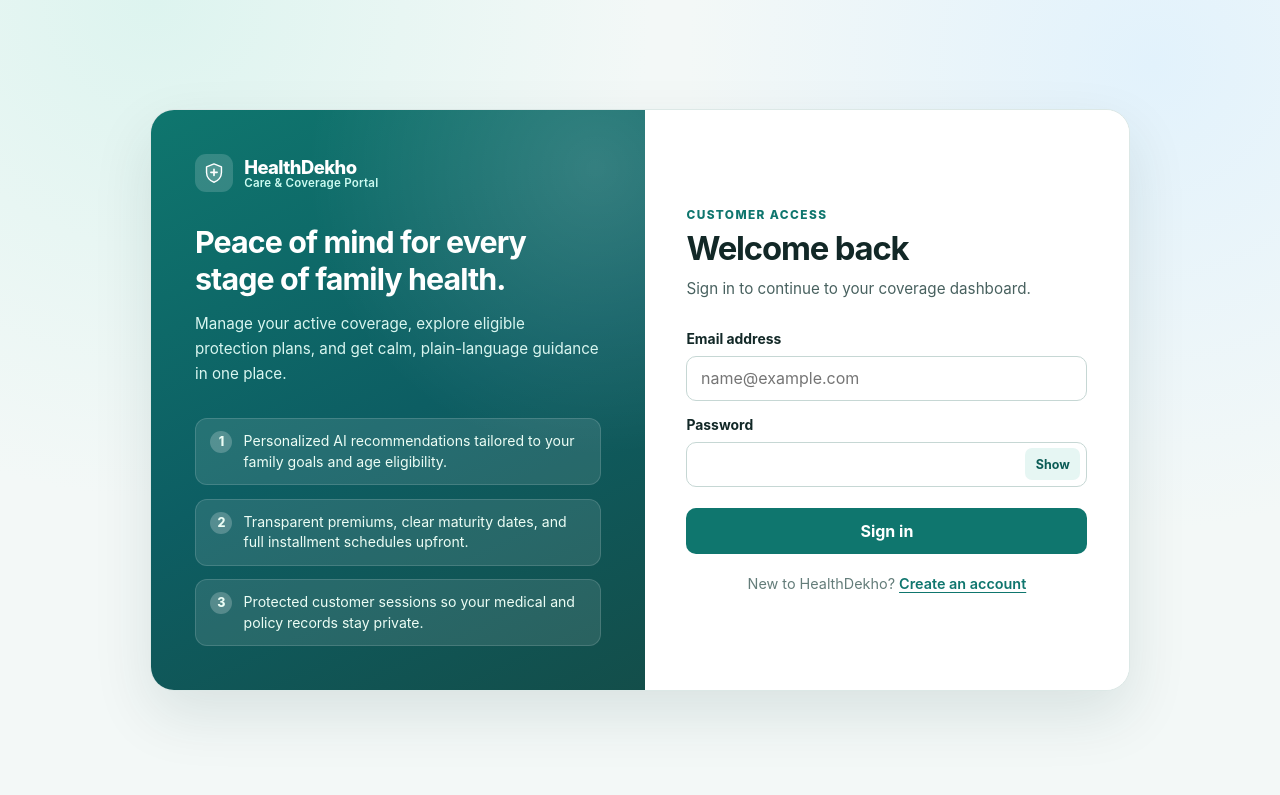
Test case: FR-1, FR-2 & FR-3 authentication, dashboard, recommendations, and policy registration flow › logs in using token-only response, loads 3 dashboard sections, and clears session on logout
Type "asha@example.test" into the field labelled "Email address".
click(887, 378); type("asha@example.test")  # box [686,356,1087,401]
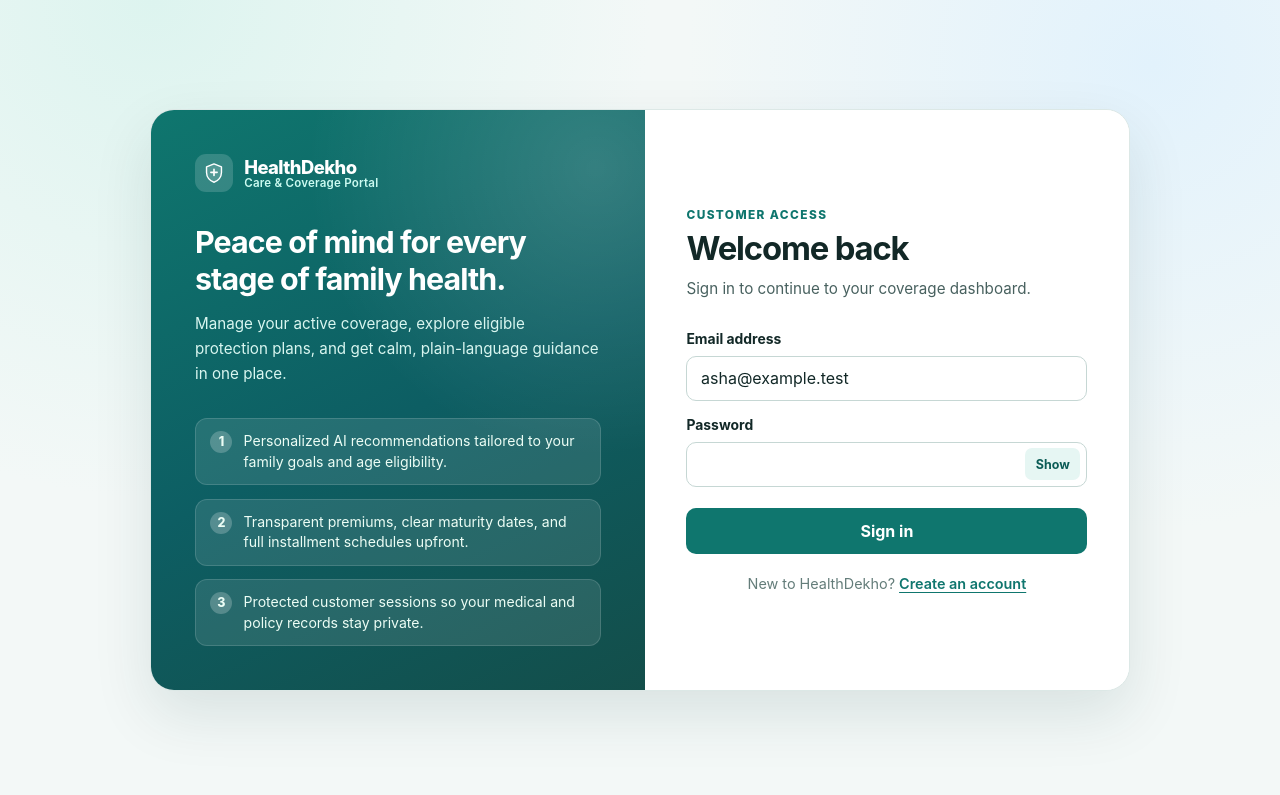
Type "Password@123" into the password field labelled "Password".
click(887, 464); type("Password@123")  # box [686,442,1087,487]
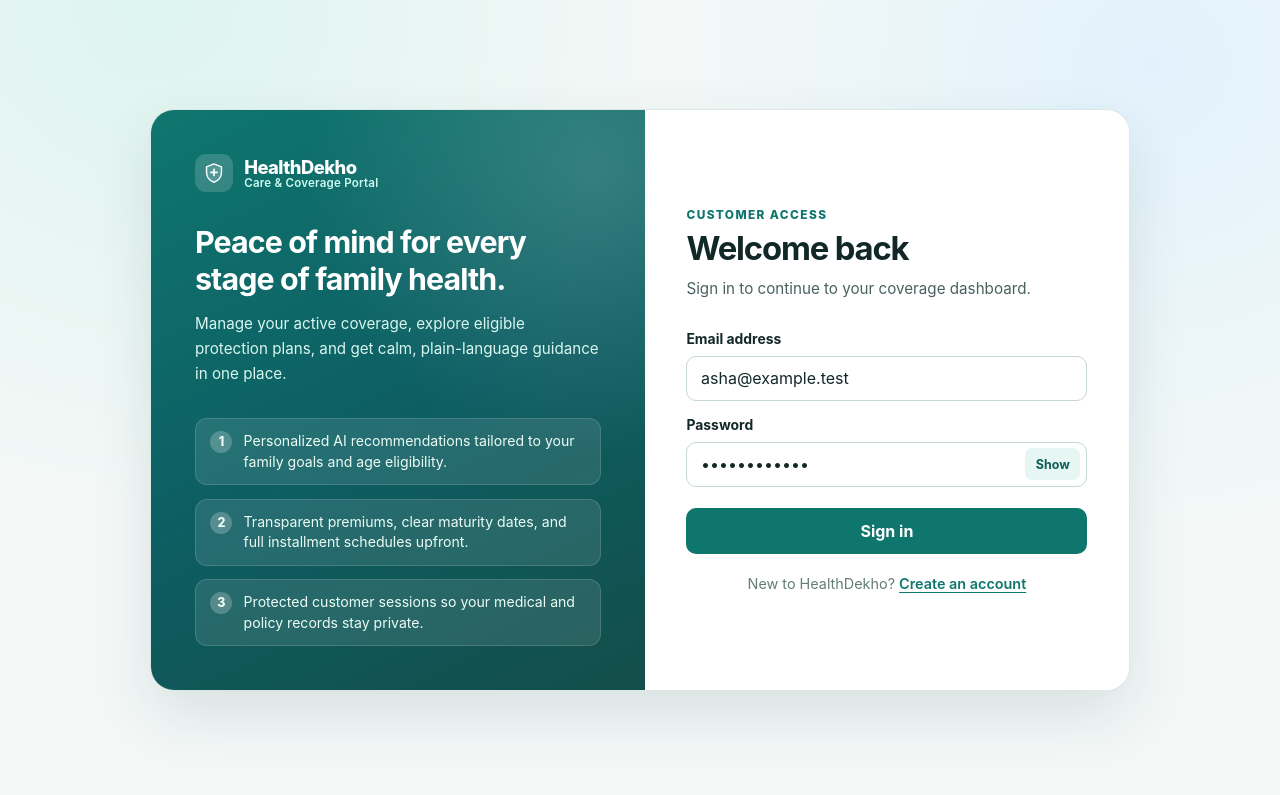
Click the button "Sign in".
click(887, 531)  # box [686,508,1087,554]
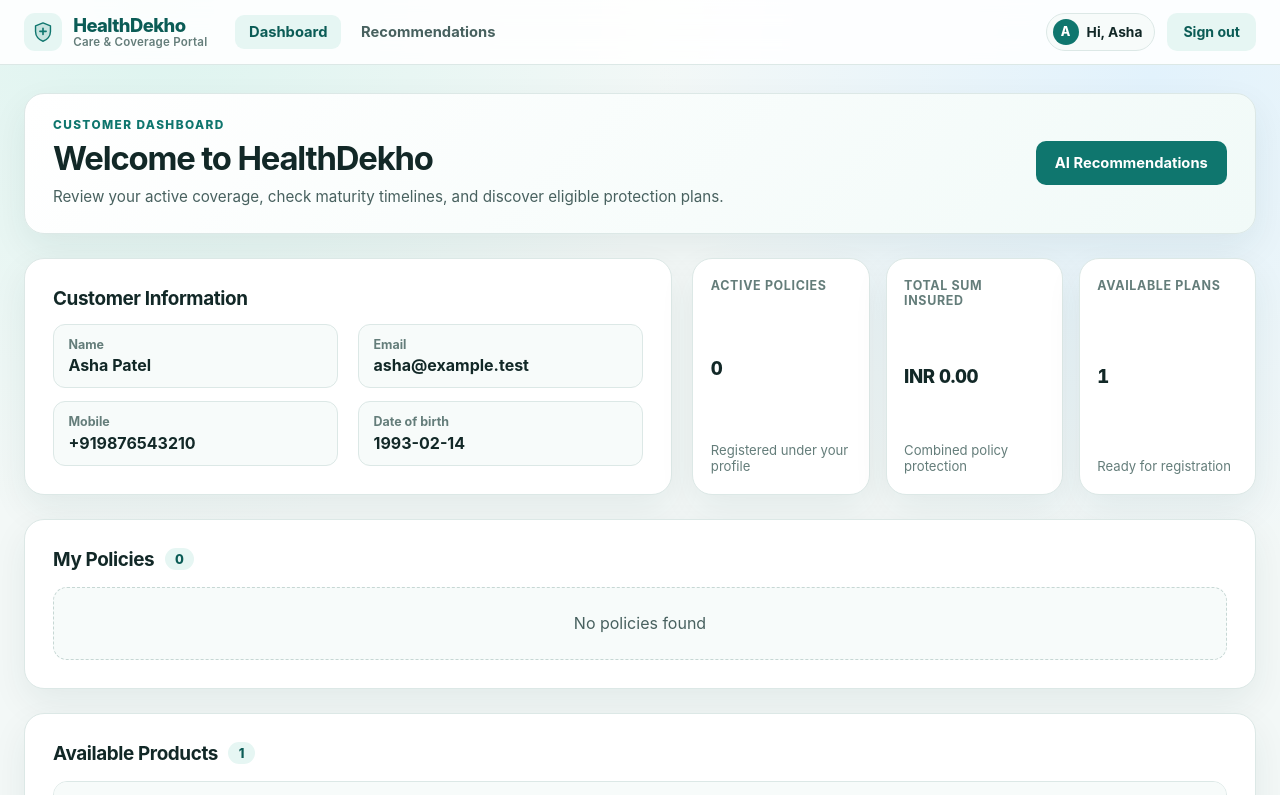
Now the heading "Welcome to HealthDekho" is shown, box [53,138,433,178]
Now the text "Asha Patel" is shown, box [68,355,151,375]
Now the text "asha@example.test" is shown, box [374,355,529,375]
Click the button "Sign out".
click(1212, 32)  # box [1167,13,1256,51]
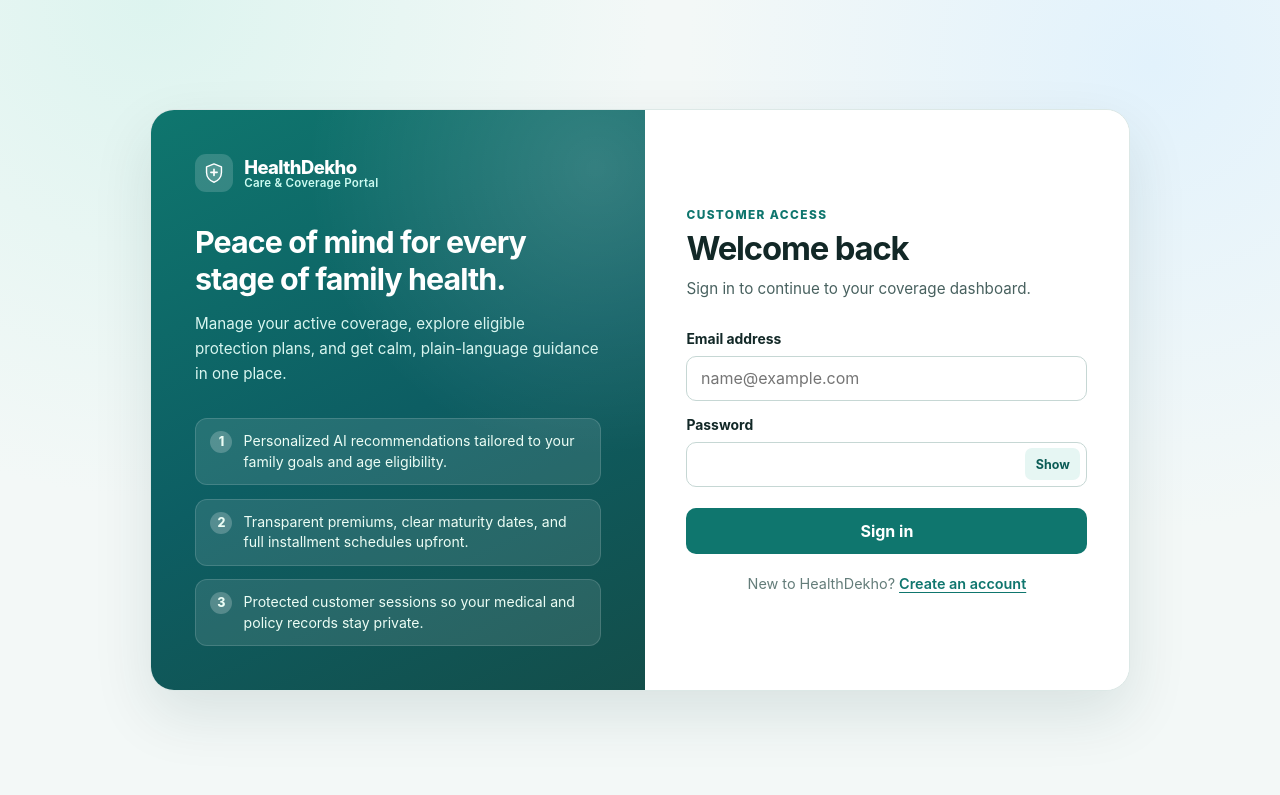
Now the heading "Welcome back" is shown, box [686,228,908,268]
